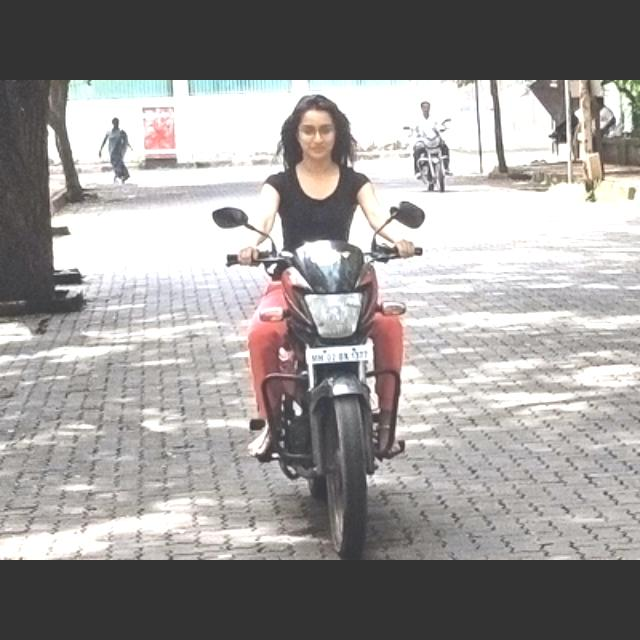Without Helmet: (278, 86, 354, 172)
